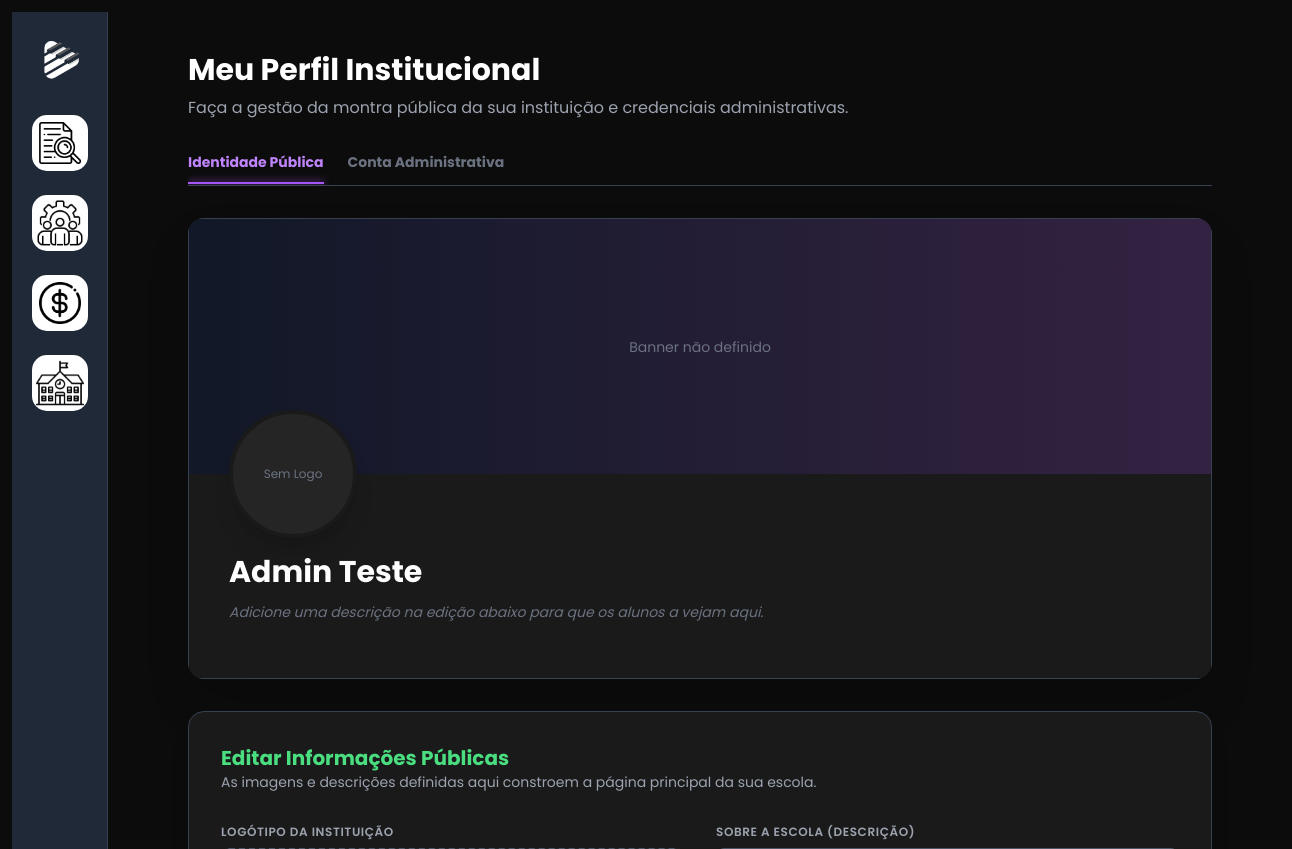
Componente InstituicaoProfile › deve renderizar os formulários de perfil e segurança
Click the admin tab to show admin content
What coordinates should you click on to do the following:
click the button "Conta Administrativa"
I would click on:
 (426, 168)
Its box is [348, 152, 504, 184].
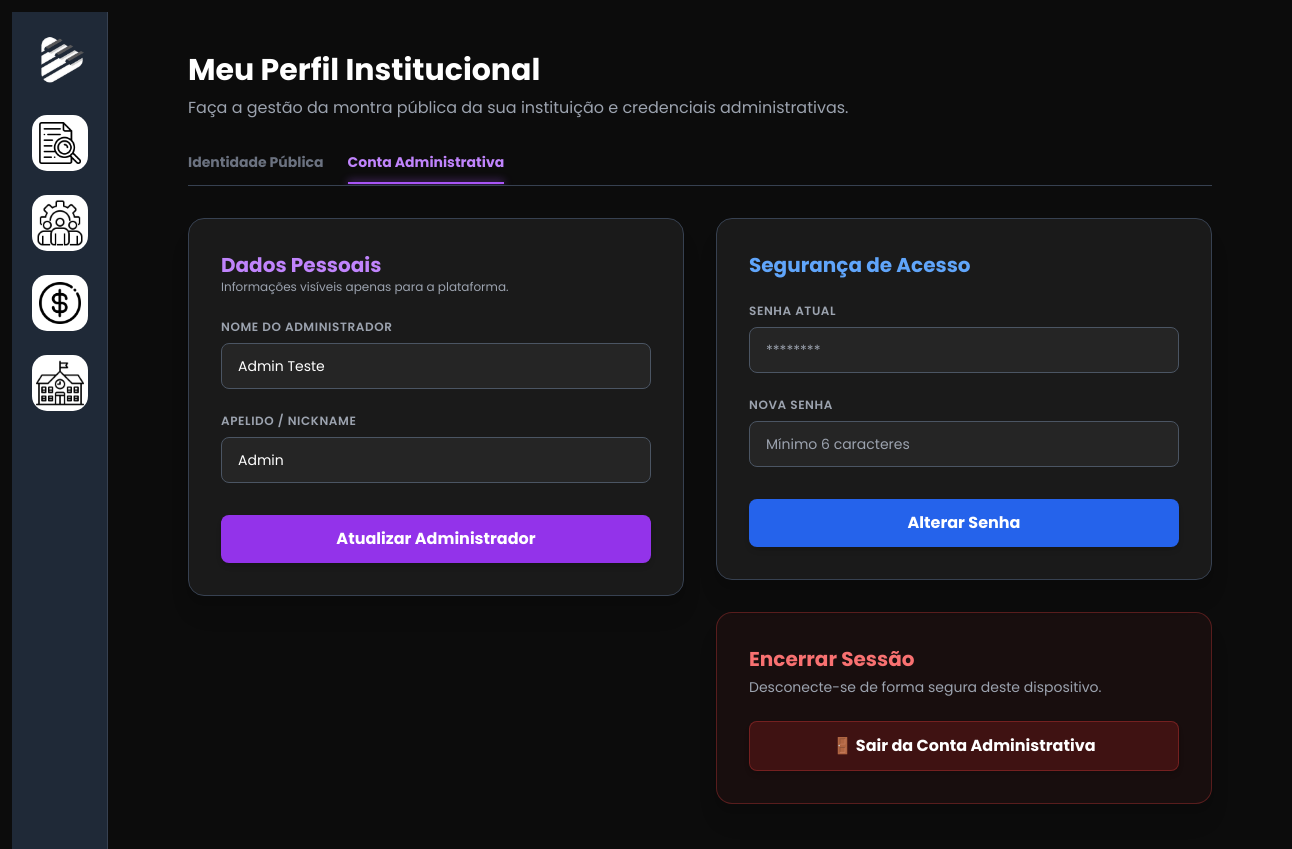
Check: the heading "Dados Pessoais" is shown, box [221, 251, 381, 279]
Check: the text "Nome do Administrador" is shown, box [221, 318, 392, 335]
Check: the text "Apelido / Nickname" is shown, box [221, 412, 356, 429]
